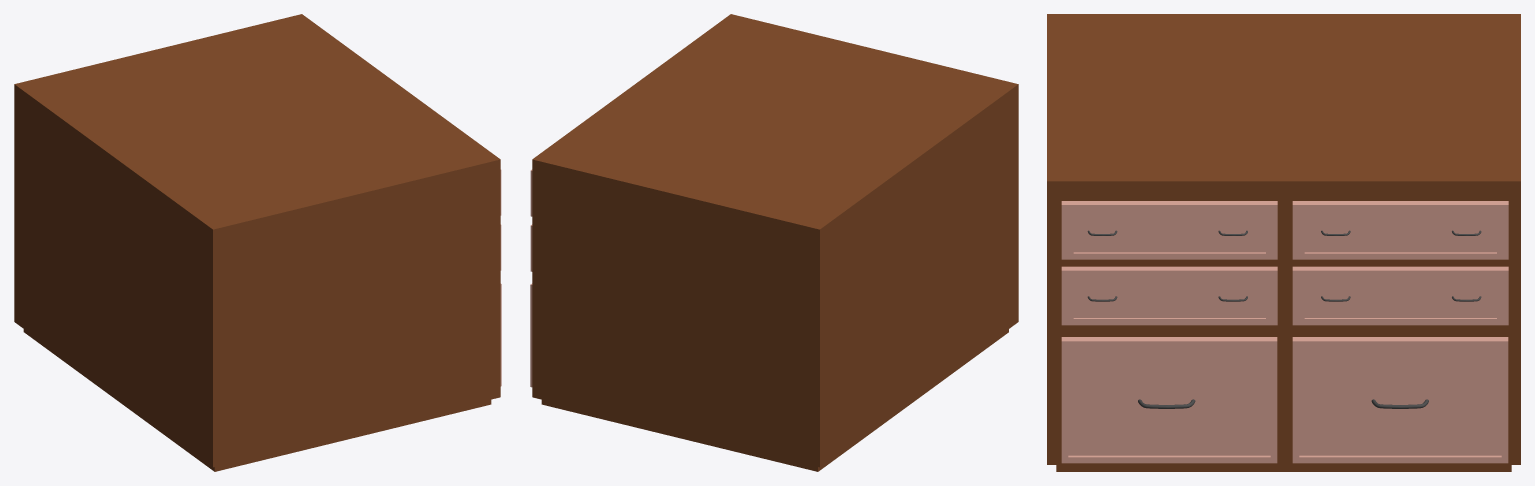
File: SM_Comptoir02.fbx
3 renders of one model, left to right at view 1: azimuth 30°, elevation 25°; view 2: azimuth 150°, elevation 25°; view 3: azimuth 270°, elevation 25°, orthographic. The views are drawn at different scales.
Parts seen in each view (by area): view 1: Cube.046; view 2: Cube.046; view 3: Cube.046, Cube.051, Cube.059, CurlyCurve.009.
Boxes of the visible parts, <box> form: Cube.046: <box>14,14,500,471</box>; Cube.046: <box>532,14,1018,471</box>; Cube.046: <box>1047,14,1520,471</box>; Cube.051: <box>1061,337,1508,463</box>; Cube.059: <box>1061,201,1508,325</box>; CurlyCurve.009: <box>1138,399,1428,408</box>.
Size of the model in its own units: 6433 by 4997 by 7300.
